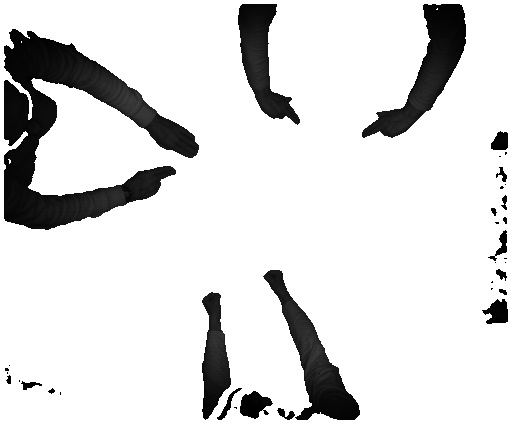fist: (256, 264, 290, 296), (200, 288, 223, 323)
hand: (153, 115, 199, 163), (129, 166, 175, 207), (360, 107, 412, 143), (261, 93, 303, 127)
